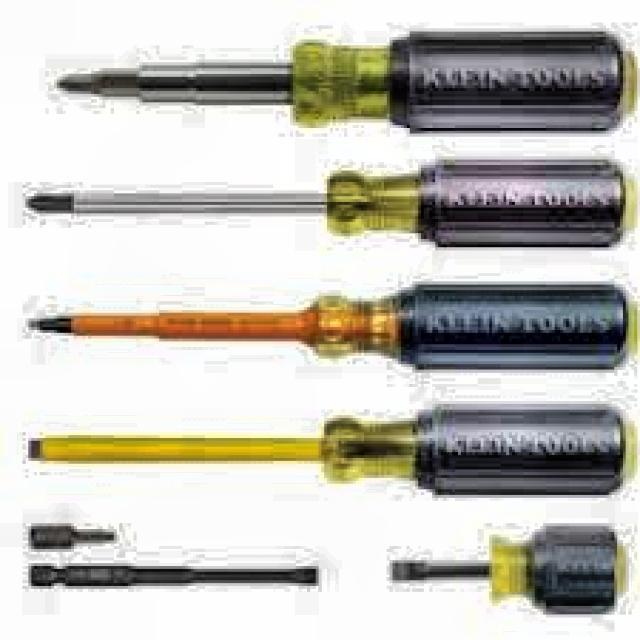screwdriver: (59, 29, 638, 134), (28, 156, 634, 252), (29, 405, 638, 496), (31, 282, 638, 371), (392, 522, 628, 620)
